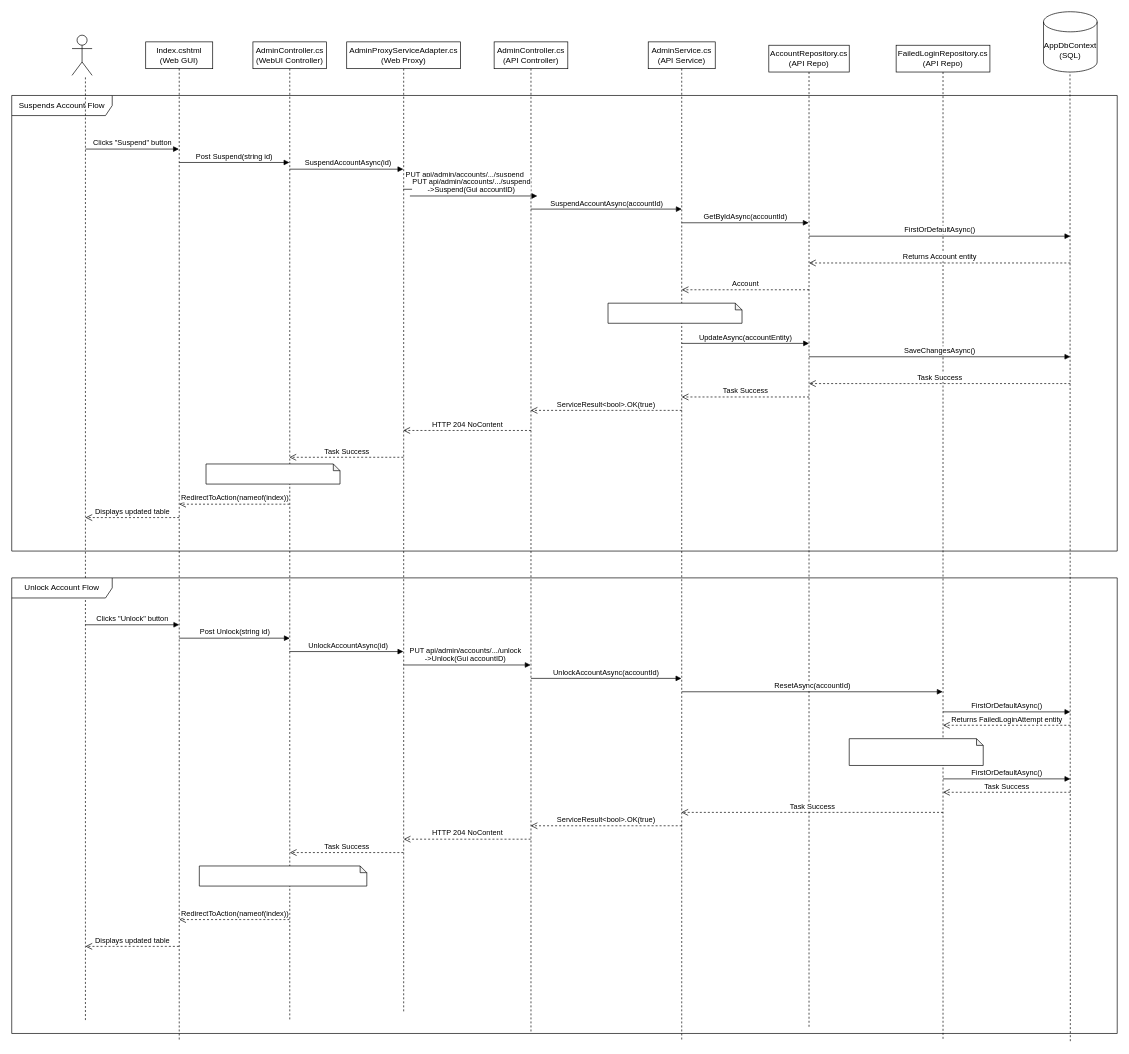
This 1129x1054 diagram has some shape labels left out. The shapes that lost their labels are listed below. From the top down, each one's centre as x and y in pixels, then its label:
the point at 81,55: Admin
the point at 674,313: accountEntity.IsSuspended = true
the point at 272,473: TempData["SuccessMessage"] = "Account successfully suspended."
the point at 916,751: attempt FailedAttempts = 0 attempt LockedUntil = null
the point at 283,875: TempData["SuccessMessage"] = "Account has been successfully unlocked."
